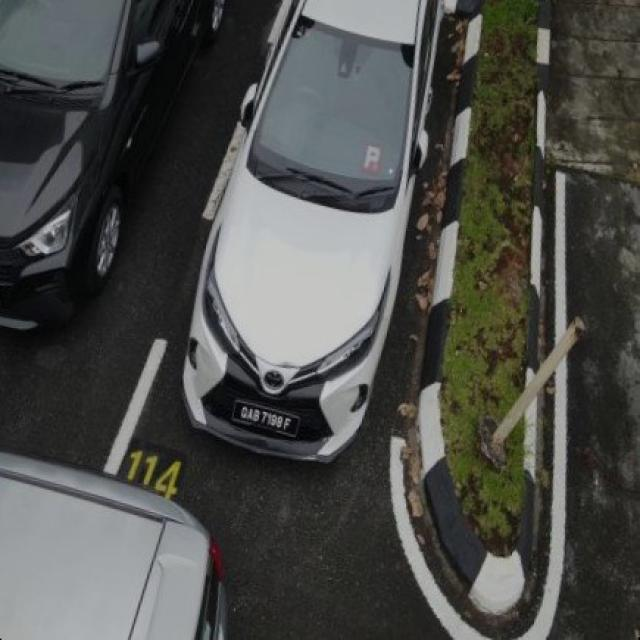Legalparking: (184, 0, 438, 459), (0, 0, 218, 328)
